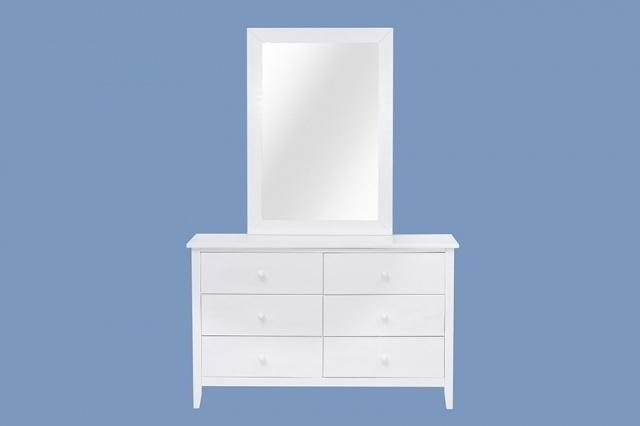cabinet_door: (321, 296, 442, 337), (321, 255, 443, 295), (204, 338, 325, 378), (322, 338, 442, 378), (205, 296, 325, 336), (204, 255, 325, 294)
handle: (376, 270, 395, 284), (376, 353, 394, 367), (252, 270, 269, 284), (252, 310, 269, 324), (377, 311, 395, 324), (253, 354, 270, 367)
